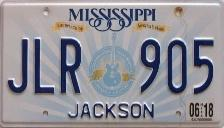0: (164, 37, 189, 95)
5: (190, 37, 216, 95)
9: (137, 36, 163, 96)
J: (6, 37, 30, 95)
L: (33, 38, 59, 95)
R: (58, 36, 85, 96)
